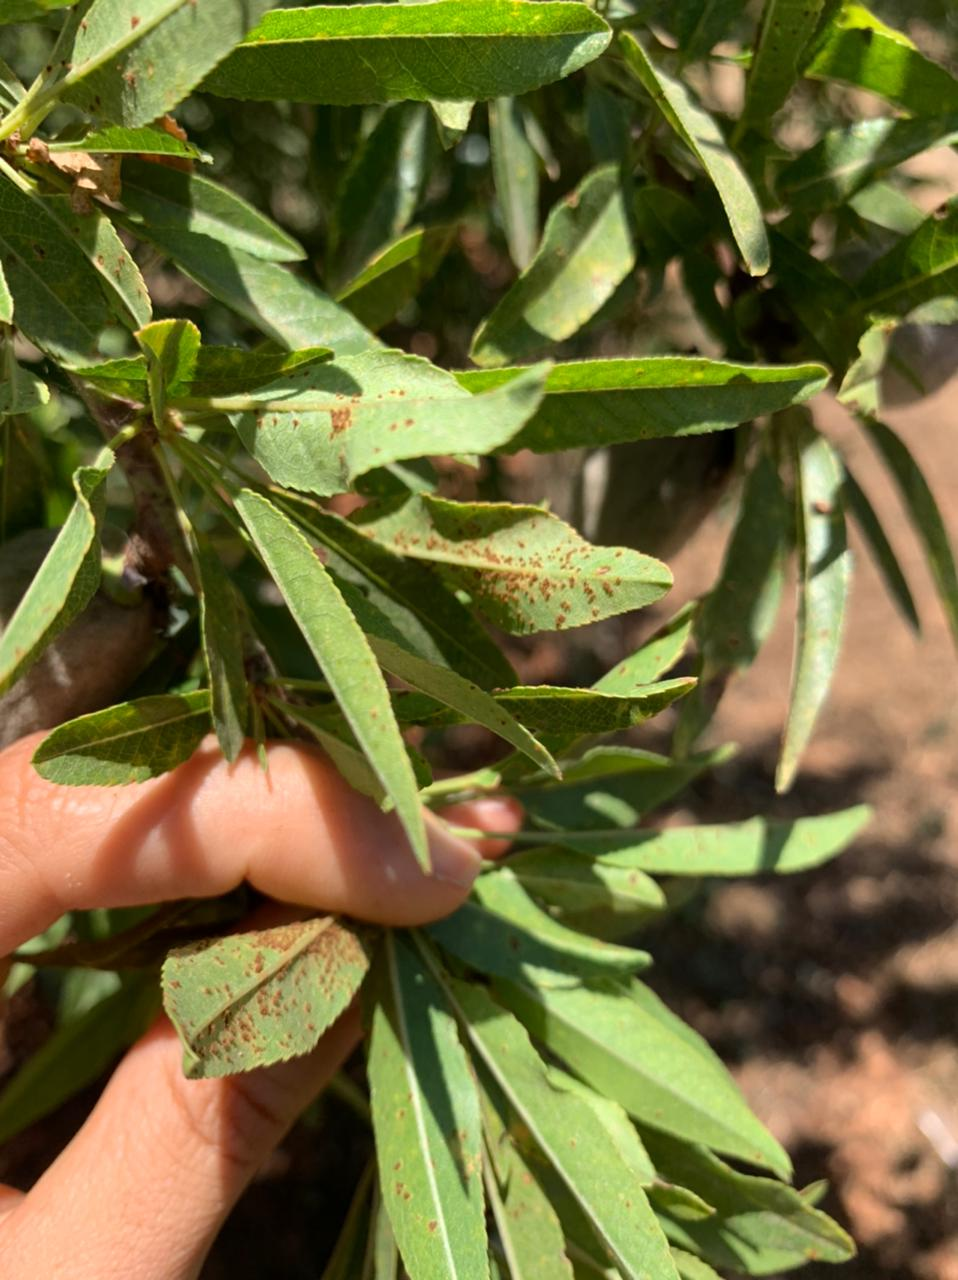rouille: (228, 484, 432, 867), (452, 987, 682, 1280), (225, 350, 558, 495), (356, 496, 677, 642), (366, 941, 491, 1280), (444, 354, 827, 454), (1, 1, 275, 140), (160, 910, 374, 1083), (370, 640, 563, 784), (536, 807, 873, 879), (1, 171, 151, 326), (583, 622, 697, 690)
